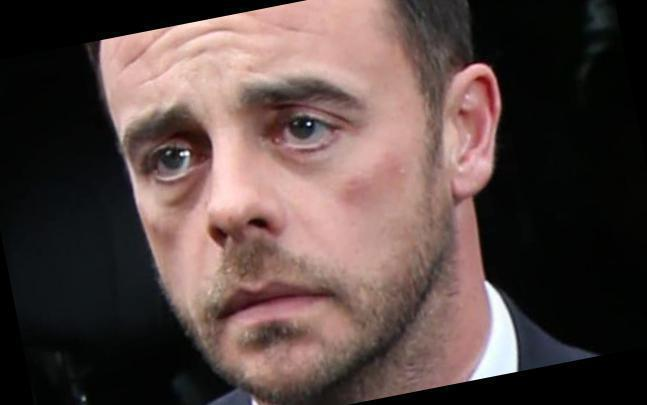Drunk: (108, 40, 434, 383)
